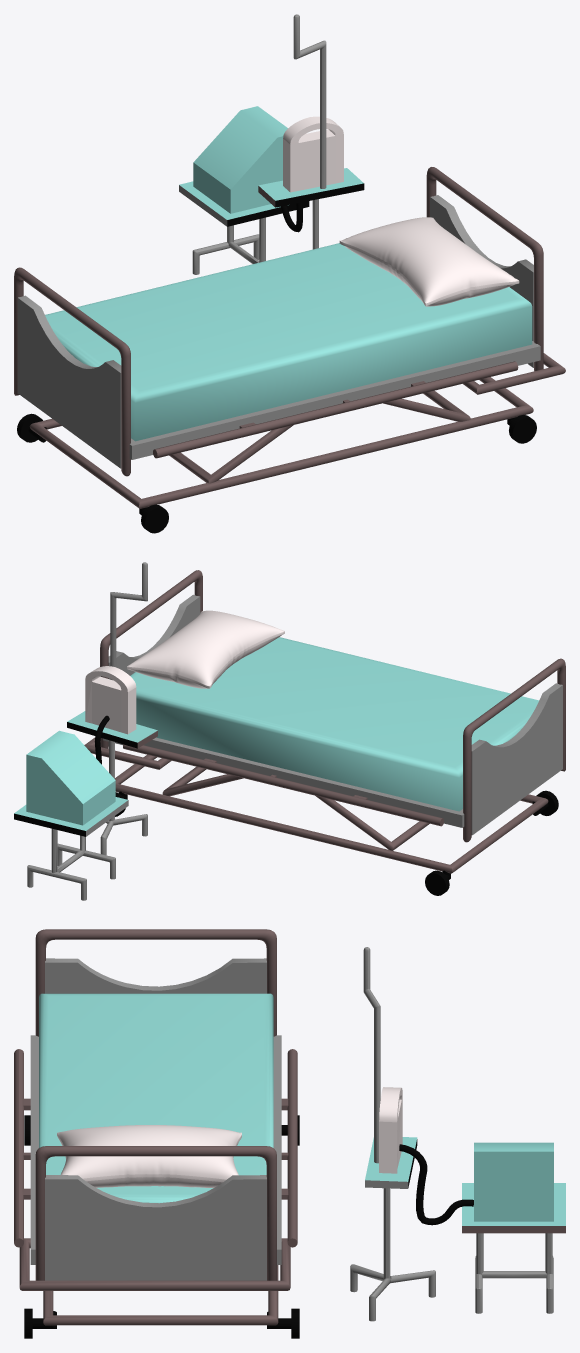
File: assets-warioware.FBX
The picture shows the model from 3 angles, top to bottom: view 1: azimuth 30°, elevation 25°; view 2: azimuth 150°, elevation 25°; view 3: azimuth 270°, elevation 25°; orthographic projection. The views are drawn at different scales.
Visible parts, largest first — view 1: Rectangle009, Box001; view 2: Rectangle009, Box001; view 3: Rectangle009, Box001.
Boxes of the visible parts, x1,y1,x2,y2 form: Rectangle009: (14,167,565,533); Box001: (179,14,364,274); Rectangle009: (84,570,565,895); Box001: (14,562,157,900); Rectangle009: (14,929,299,1338); Box001: (350,947,565,1321).
Size of the model in its own units: 797 by 576 by 816.
